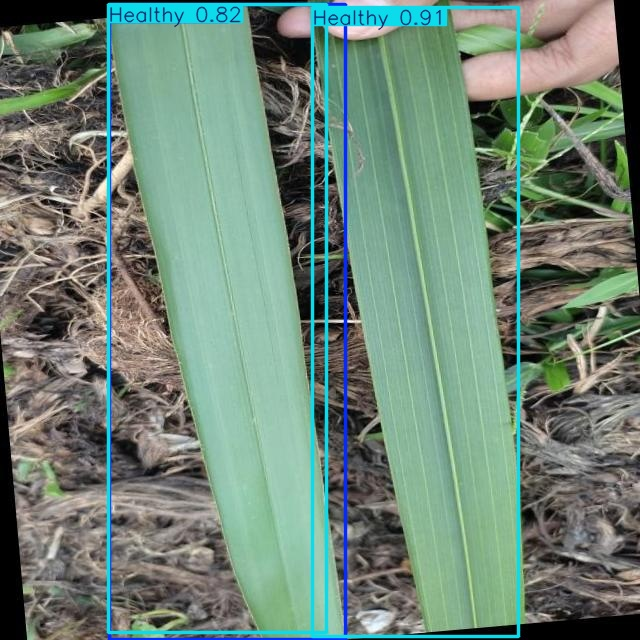Boron: (110, 4, 346, 640)
Healthy: (108, 4, 326, 632), (312, 7, 518, 637)
